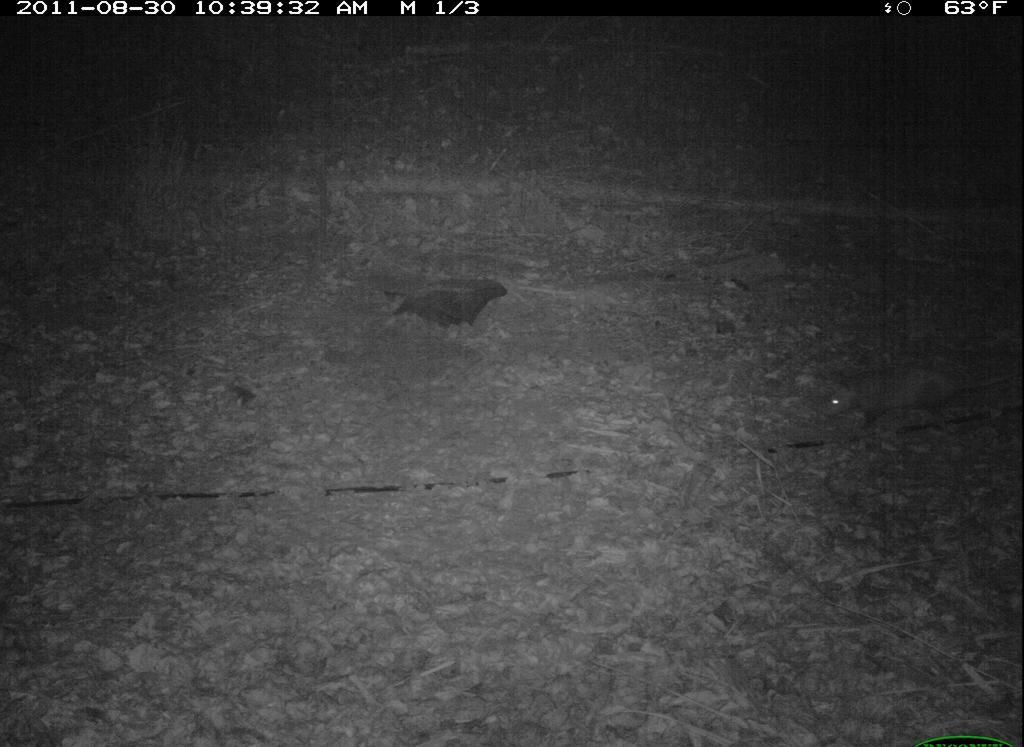opossum: (809, 359, 982, 445)
